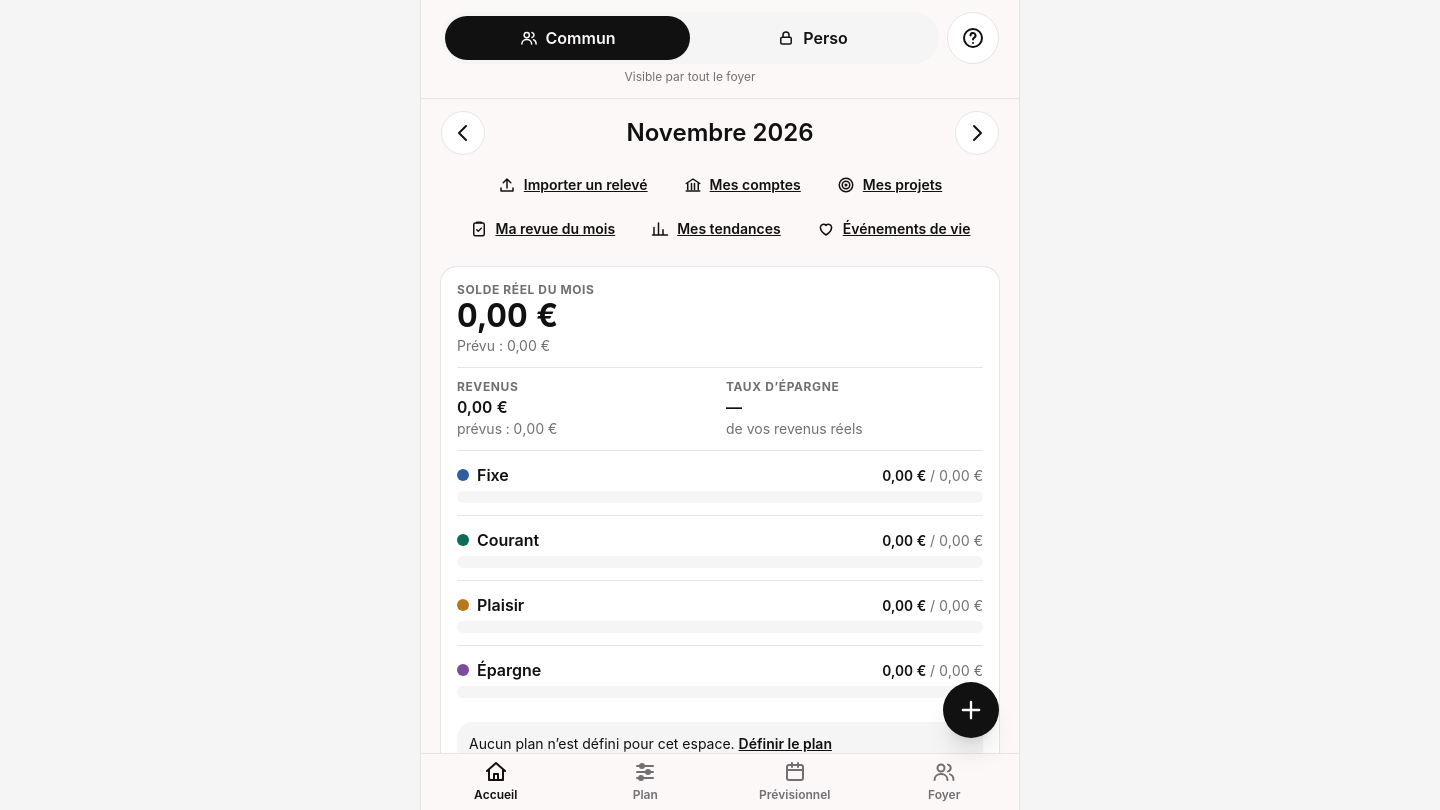
it: AppShell quick entry with bank accounts › attaches the operation to the chosen account, then preselects it next time
Click the button named "Ajouter une opération": (971, 710) x1=943 y1=682 x2=999 y2=738
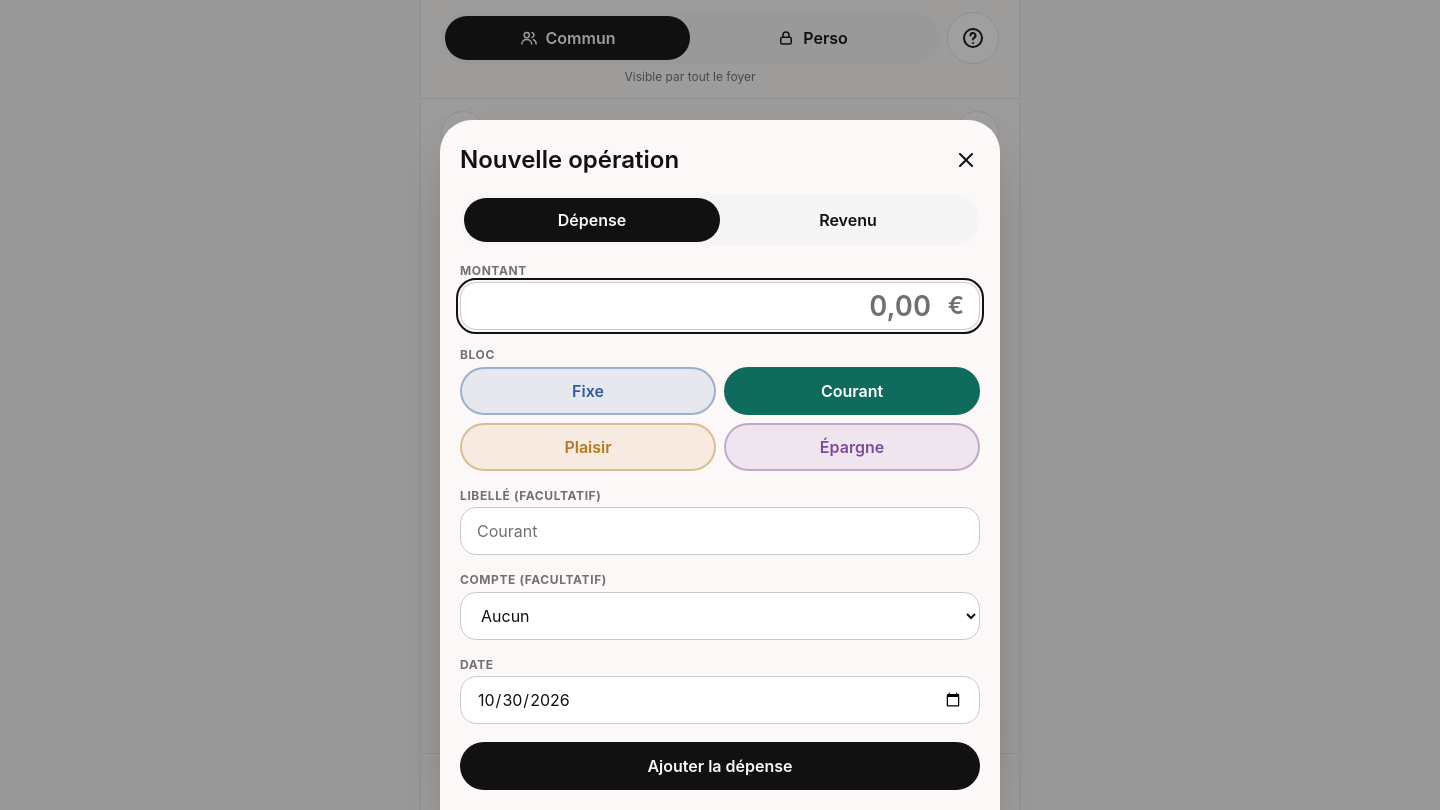
Check: the dropdown labelled "Compte (facultatif)" shows "Aucun", box x1=460 y1=592 x2=980 y2=640
In the field labelled "Montant": (720, 306) x1=460 y1=282 x2=980 y2=330, type "25"
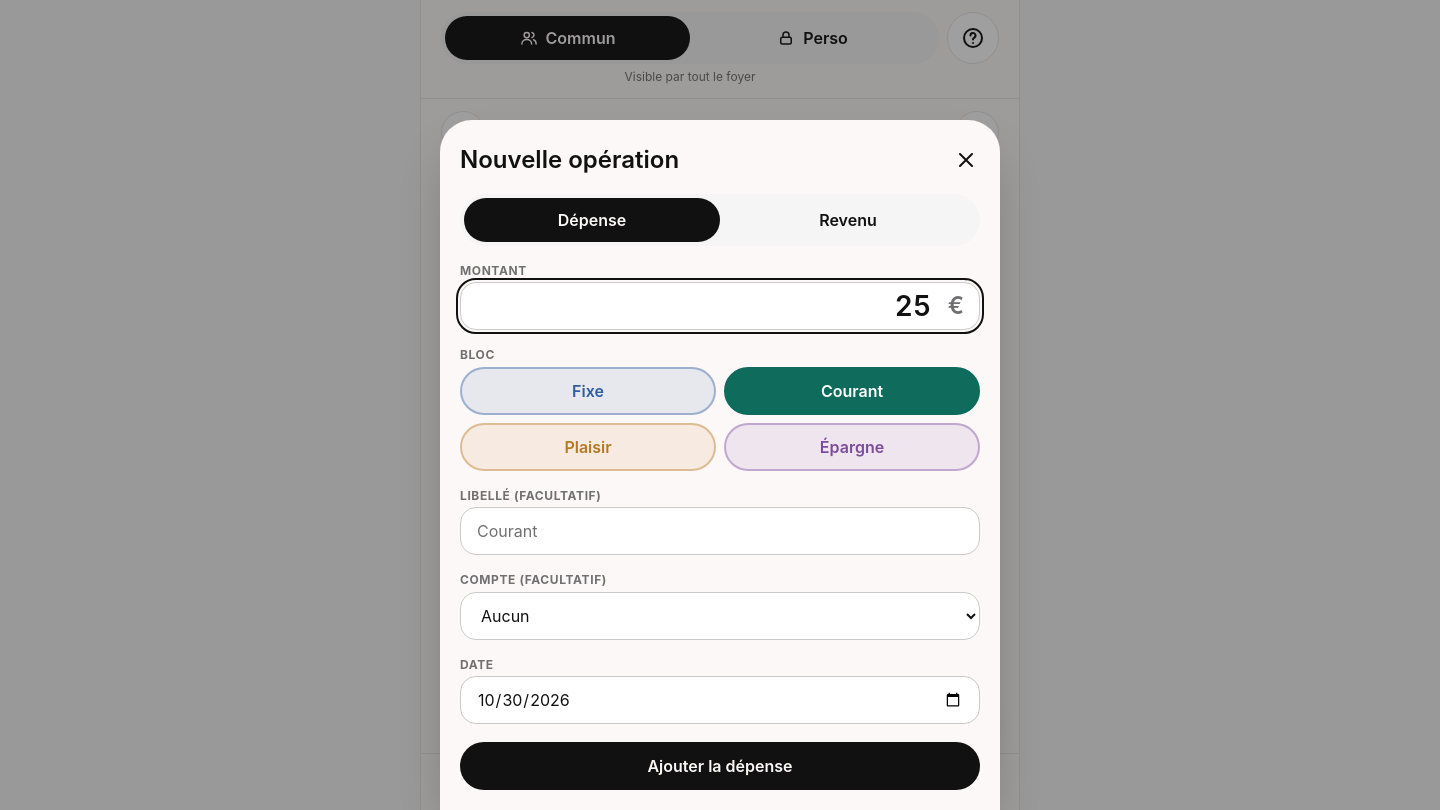
Select "Livret A" in the dropdown labelled "Compte (facultatif)": (720, 616) x1=460 y1=592 x2=980 y2=640
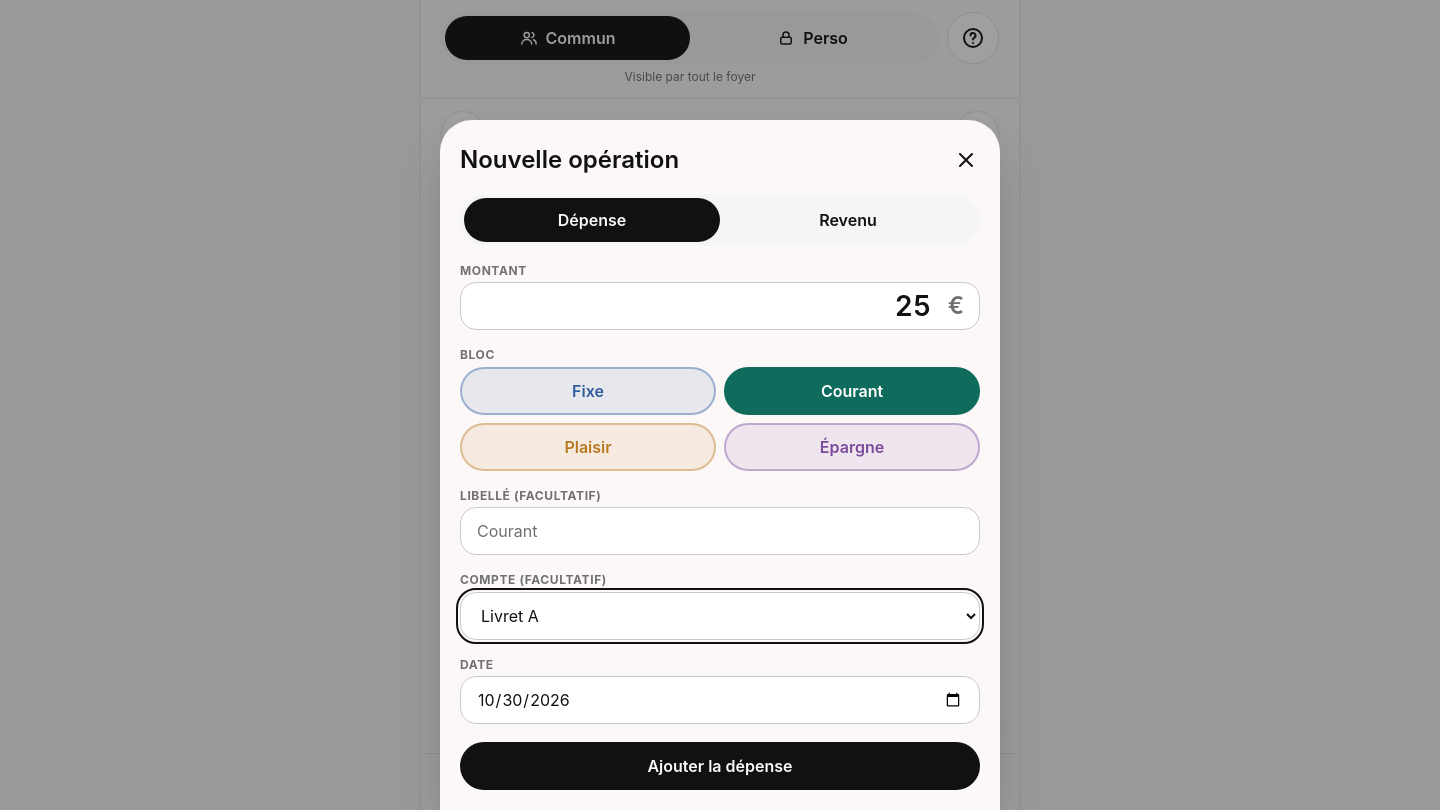
Click the button "Ajouter la dépense": (720, 766) x1=460 y1=742 x2=980 y2=790
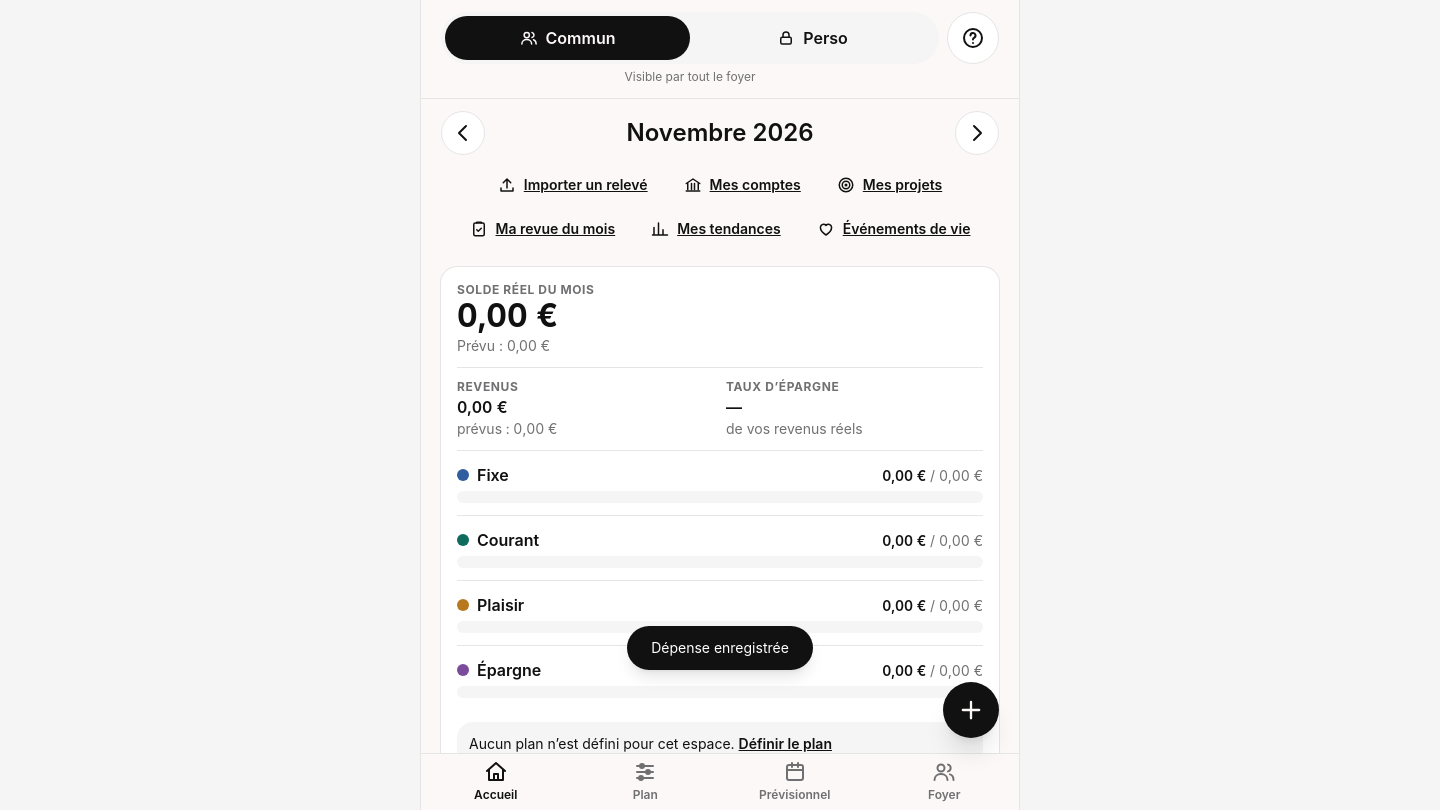
Check: the dialog is gone
Click the button named "Ajouter une opération": (971, 710) x1=943 y1=682 x2=999 y2=738
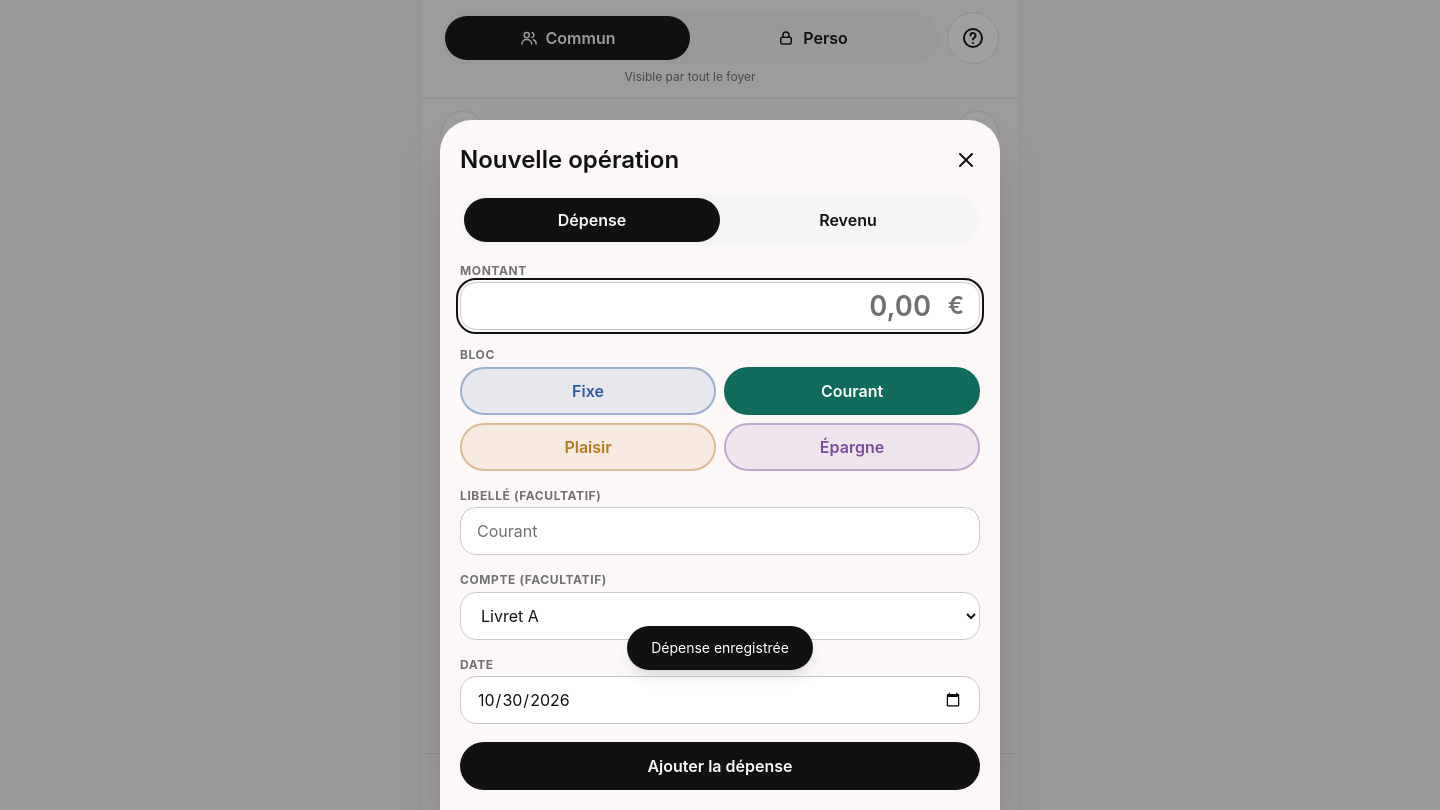
Check: the dropdown labelled "Compte (facultatif)" shows "Livret A", box x1=460 y1=592 x2=980 y2=640
